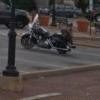Motorcycle: (20, 15, 87, 52)
